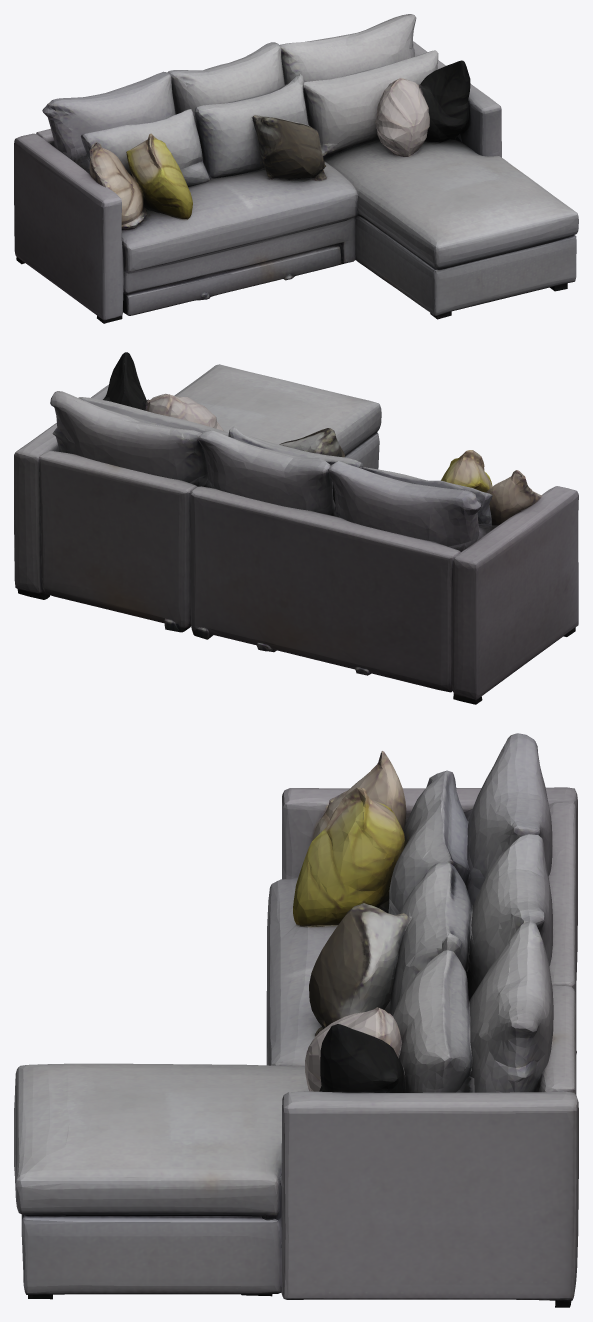
File: SOFÁ CAMA ASHA.glb
3 renders of one model, top to bottom at view 1: azimuth 30°, elevation 25°; view 2: azimuth 150°, elevation 25°; view 3: azimuth 270°, elevation 25°, orthographic. The views are drawn at different scales.
Visible parts, largest first — view 1: world; view 2: world; view 3: world.
Part boxes in pixels (bbox=[...]): world: bbox=[14, 14, 578, 323]; world: bbox=[14, 352, 578, 704]; world: bbox=[14, 733, 578, 1307].
Bounding box in the file's own units: 1 × 0.3996 × 0.7438.
1 material, 1 textured.
